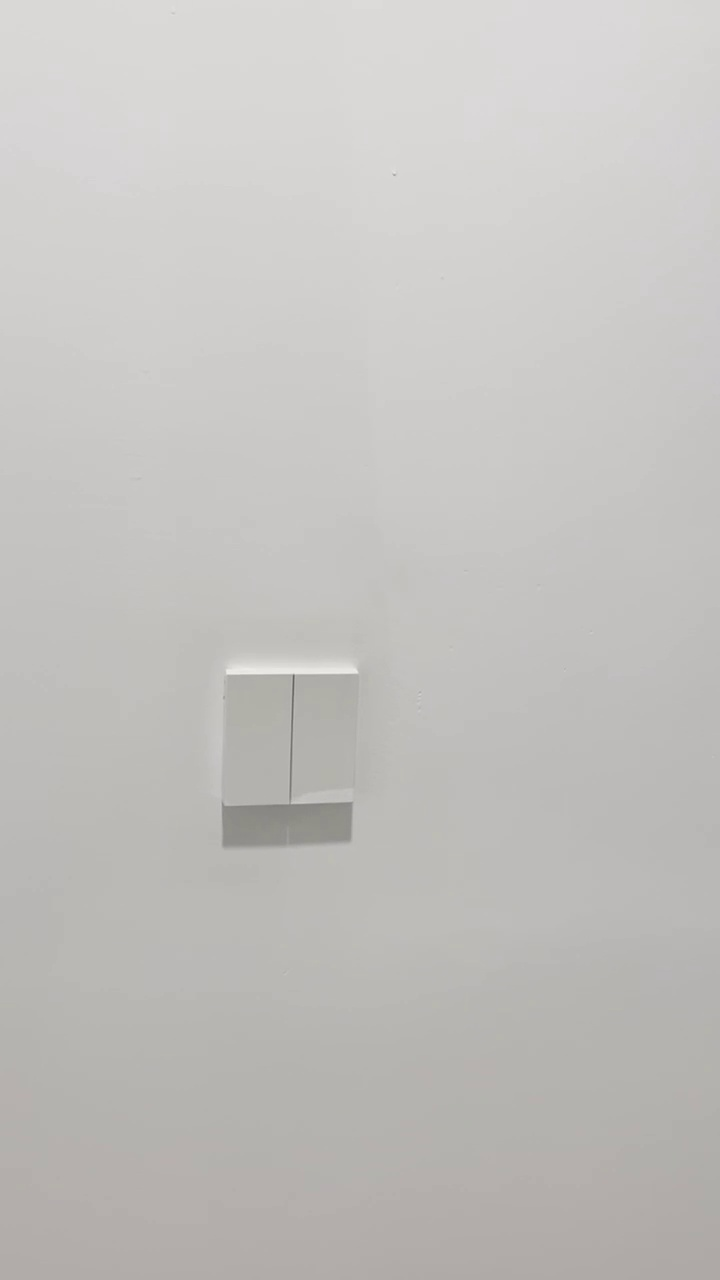button: (218, 663, 359, 808)
